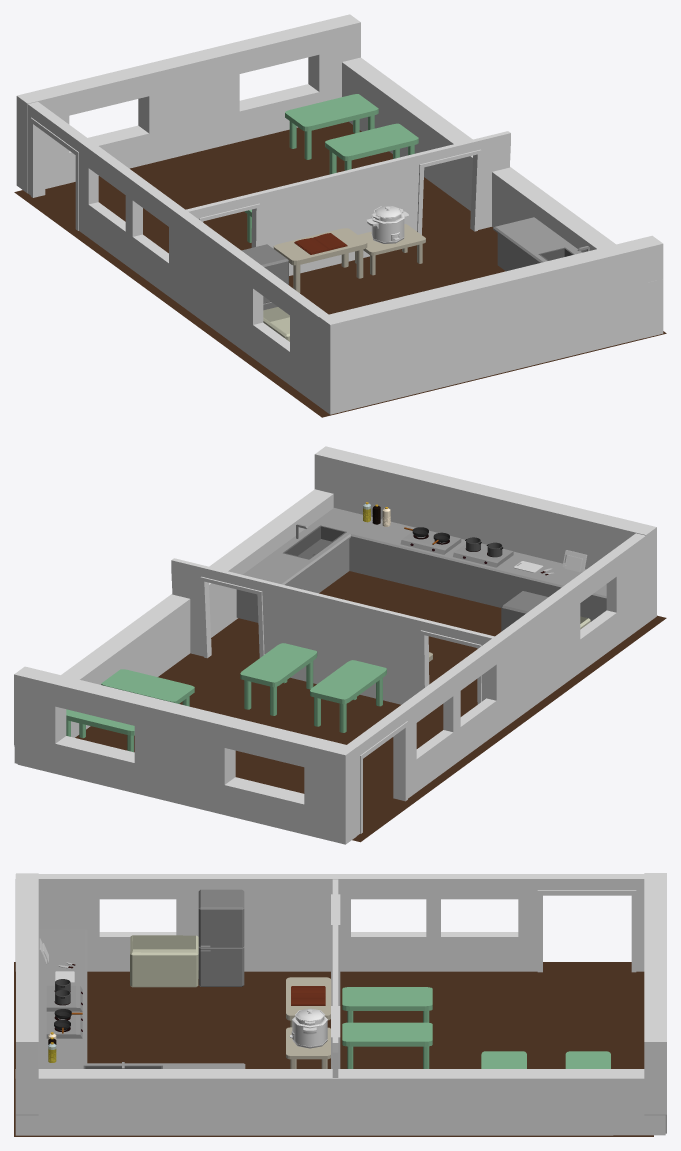
File: Map Updated.fbx
3 renders of one model, top to bottom at view 1: azimuth 30°, elevation 25°; view 2: azimuth 150°, elevation 25°; view 3: azimuth 270°, elevation 25°, orthographic. The views are drawn at different scales.
Parts seen in each view (by area): view 1: Cube, Plane, Cube.003, Cube.001, Cube.004, Cube.002, Kitchen counter, Table.007, Table.006, Table, Rice cooker, Table.001 (+3 smaller); view 2: Cube.001, Plane, Cube.003, Cube, Cube.004, Kitchen counter, Cube.002, Table.002, Table.003, Table.006, Table.007, Fridge (+2 smaller); view 3: Plane, Cube.002, Cube.003, Cube.001, Kitchen counter, Cube, Fridge, Freezer, Table.002, Table.003, Cube.004, Rice cooker (+7 smaller).
Boxes of the visible parts, box(x1,y1,x2,y2) form: Cube: box(319, 235, 663, 412); Plane: box(14, 121, 666, 417); Cube.003: box(28, 102, 340, 414); Cube.001: box(16, 14, 360, 193); Cube.004: box(186, 131, 510, 275); Cube.002: box(342, 57, 663, 338); Kitchen counter: box(493, 217, 589, 271); Table.007: box(285, 94, 378, 159); Table.006: box(325, 123, 418, 174); Table: box(273, 228, 367, 292); Rice cooker: box(366, 206, 408, 243); Table.001: box(355, 224, 425, 275); Cube.001: box(14, 666, 356, 844); Plane: box(75, 571, 666, 842); Cube.003: box(347, 528, 656, 835); Cube: box(314, 446, 656, 569); Cube.004: box(171, 558, 494, 704); Kitchen counter: box(236, 508, 606, 622); Cube.002: box(14, 489, 333, 763); Table.002: box(240, 643, 317, 715); Table.003: box(310, 660, 386, 732); Table.006: box(101, 669, 194, 706); Table.007: box(66, 709, 134, 752); Fridge: box(501, 591, 548, 631); Plane: box(14, 962, 653, 1136); Cube.002: box(15, 1069, 665, 1135); Cube.003: box(15, 874, 644, 972); Cube.001: box(644, 873, 666, 1133); Kitchen counter: box(38, 929, 245, 1068); Cube: box(16, 873, 38, 1115); Fridge: box(198, 889, 244, 986); Freezer: box(130, 935, 198, 987); Table.002: box(342, 1022, 432, 1068); Table.003: box(342, 987, 432, 1022); Cube.004: box(331, 879, 340, 1077); Rice cooker: box(289, 1008, 327, 1048).
Bounding box in the file's own units: 1816 × 455 × 2866.
